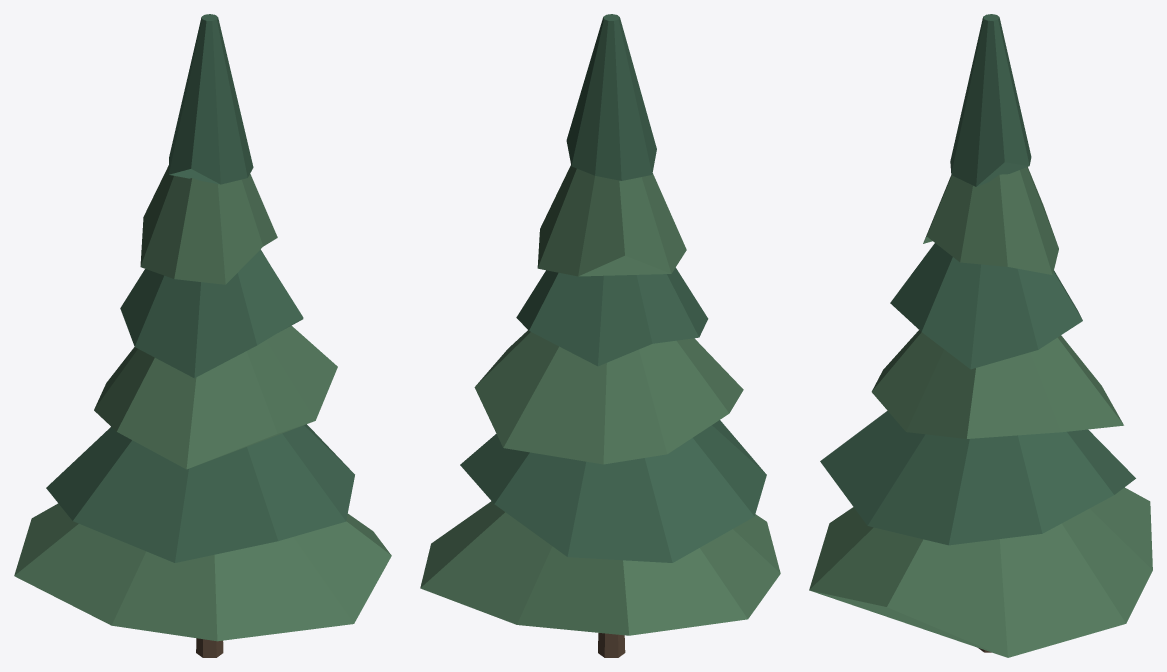
The model's file is pine.glb.
The picture shows the model from 3 angles, left to right: view 1: azimuth 30°, elevation 25°; view 2: azimuth 150°, elevation 25°; view 3: azimuth 270°, elevation 25°; orthographic projection.
Parts seen in each view (by area): view 1: pine; view 2: pine; view 3: pine.
Part boxes in pixels (x1,y1,x2,y2): pine: (14,14,391,657); pine: (420,14,780,657); pine: (809,14,1152,657).
Bounding box in the file's own units: 3.7 × 6.65 × 3.29.
